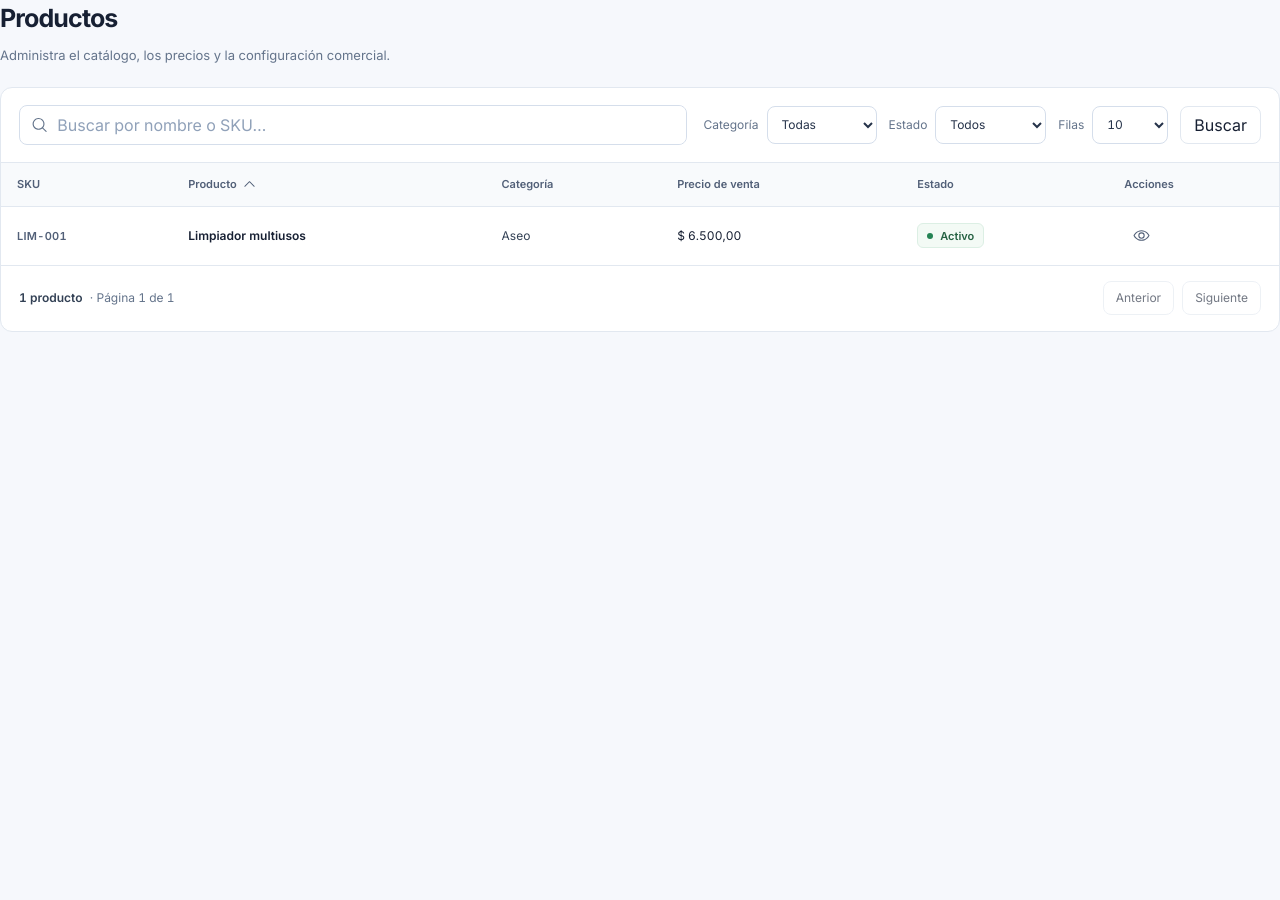
it: ProductsPage › loads warehouse balances only after an authorized detail is opened
Expected: the row "LIM-001 Limpiador multiusos Aseo $ 6.500,00 Activo" is shown, [1,207,1279,265]
Click the button named "Ver producto LIM-001".
click(1141, 236)  # box [1124,219,1158,253]
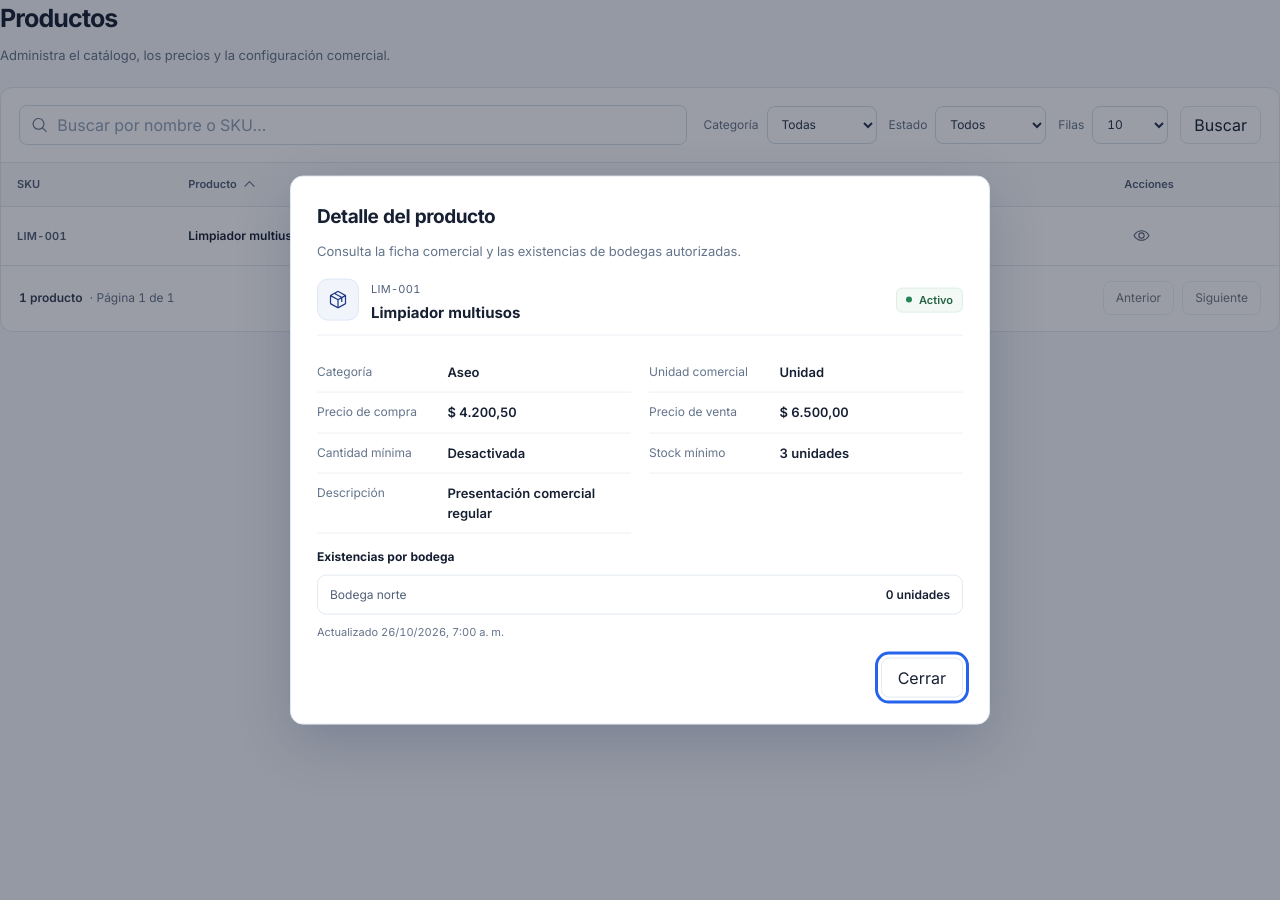
Expected: the text "Bodega norte" is shown, [330,586,406,604]
Expected: the text "0 unidades" is shown, [886,586,950,604]
